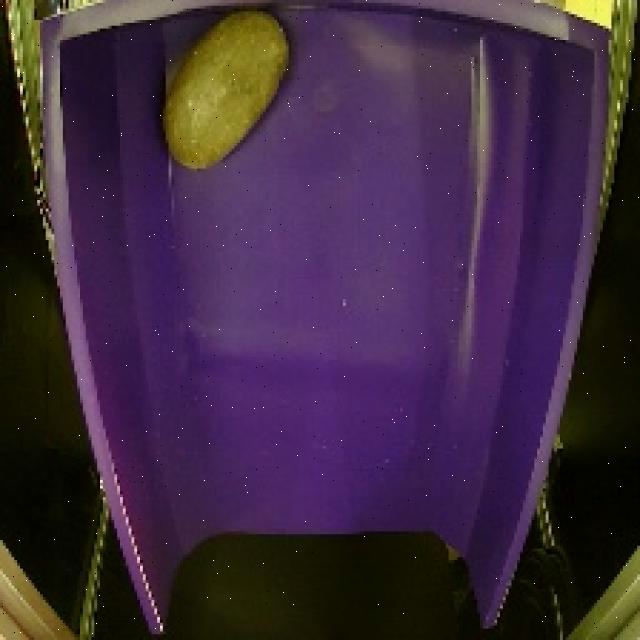cobbles: (155, 2, 298, 180)
